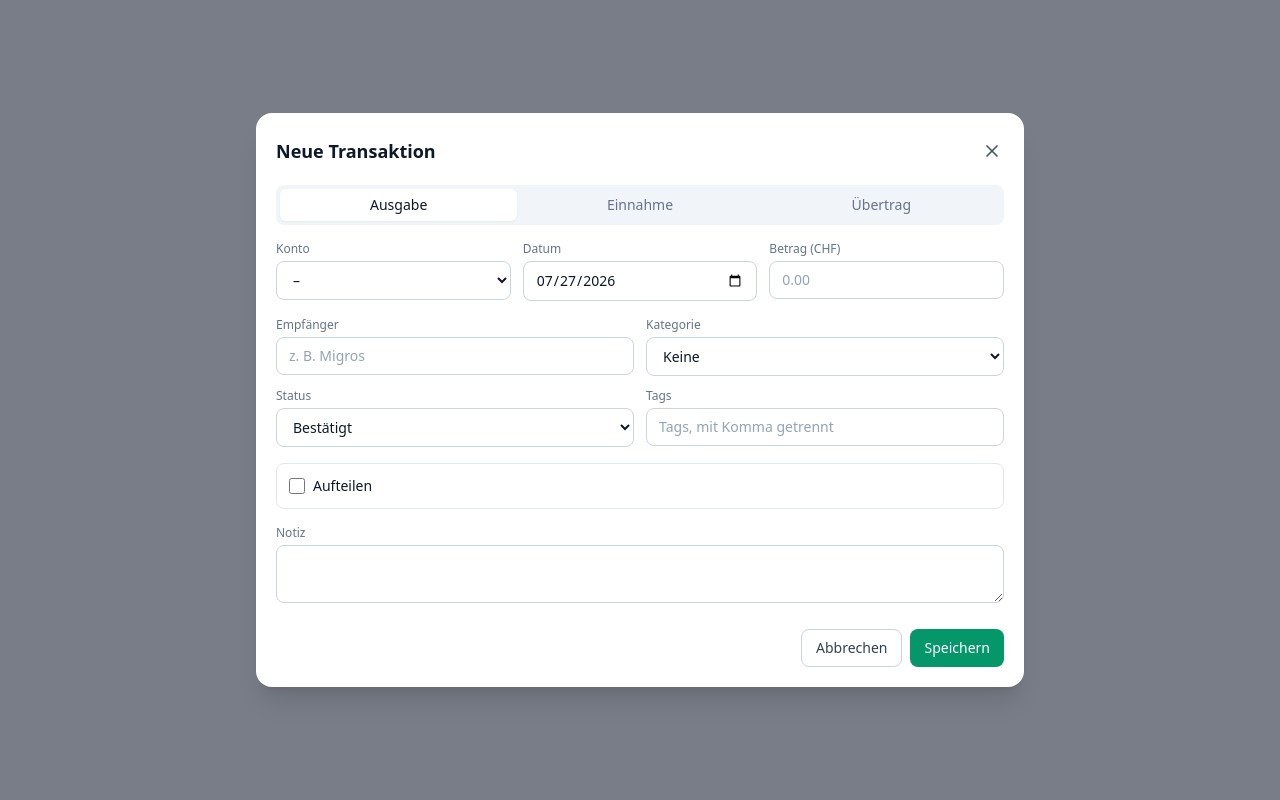
Test: TransactionFormModal › validates required fields before submitting
Click the button "Speichern" at (957, 648), box [910,629,1004,667]
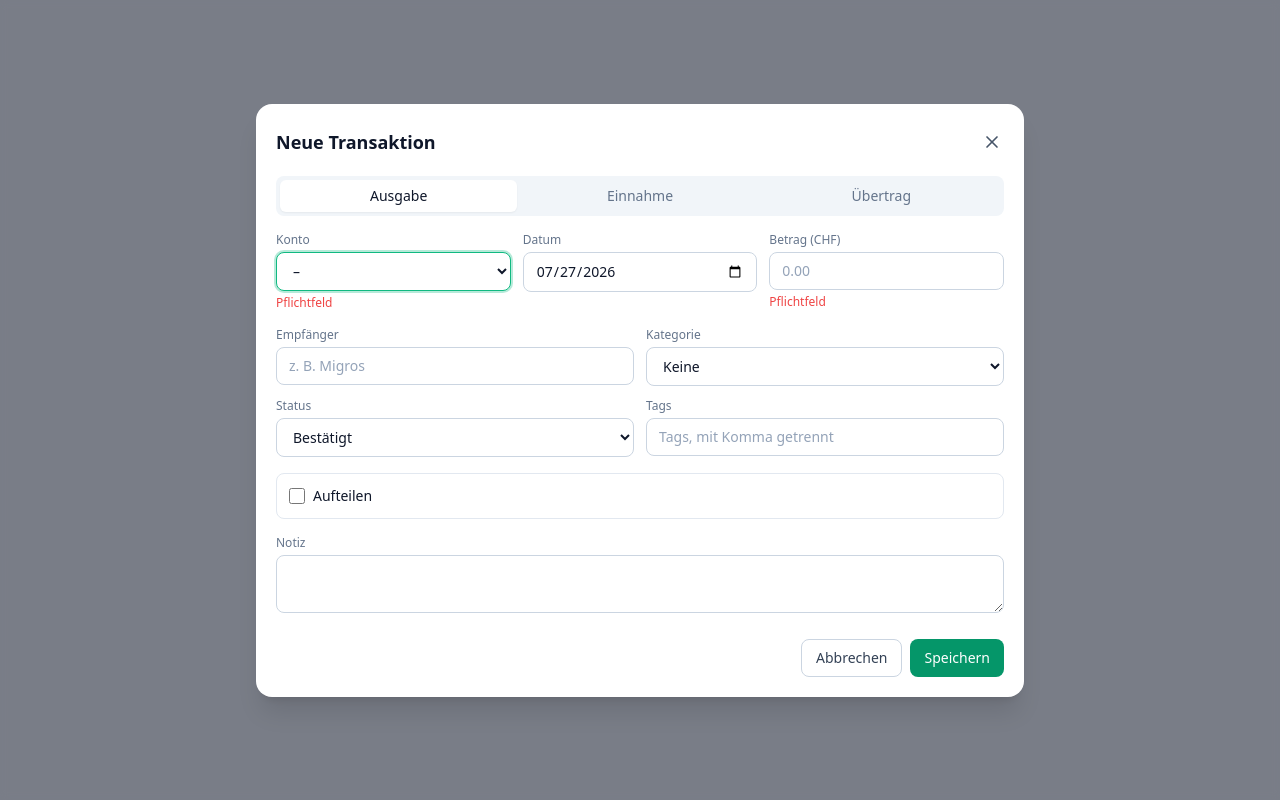
Now the text "Pflichtfeld" below "Konto" is shown, box [276,294,332,310]
